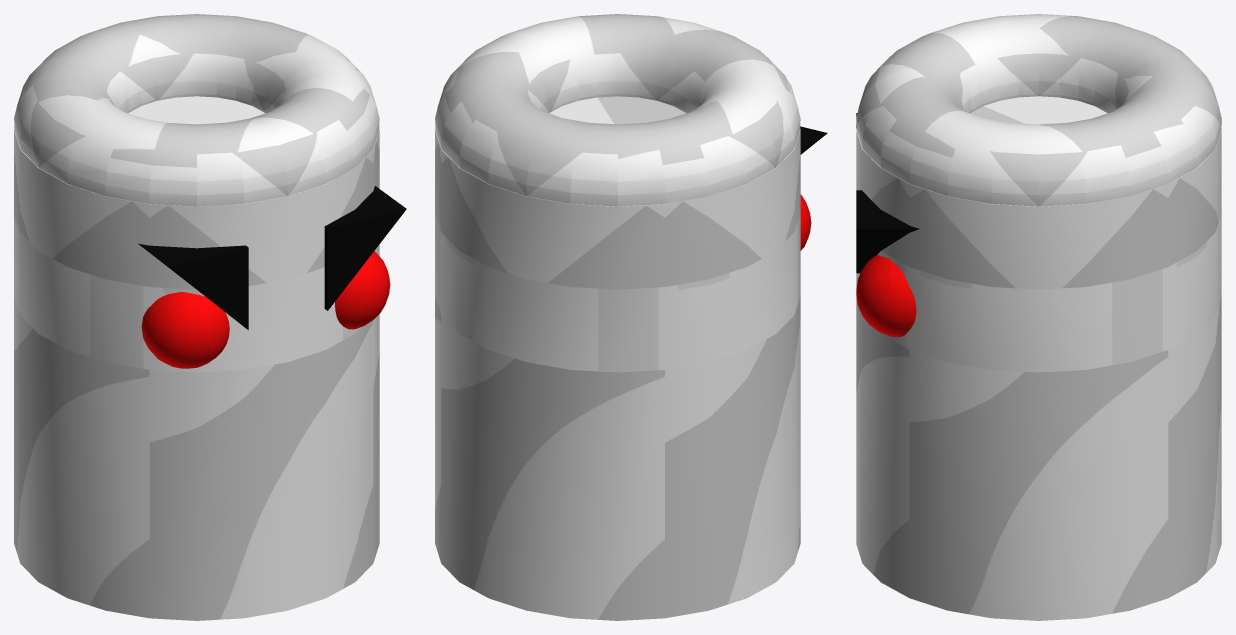
File: Character4.obj
3 views of the same model, side by side, from view 1: azimuth 30°, elevation 25°; view 2: azimuth 150°, elevation 25°; view 3: azimuth 270°, elevation 25° (orthographic).
Bounding box in the file's own units: 0.8 × 1.13 × 0.8.
Materials: 5 (3 with a texture image).
